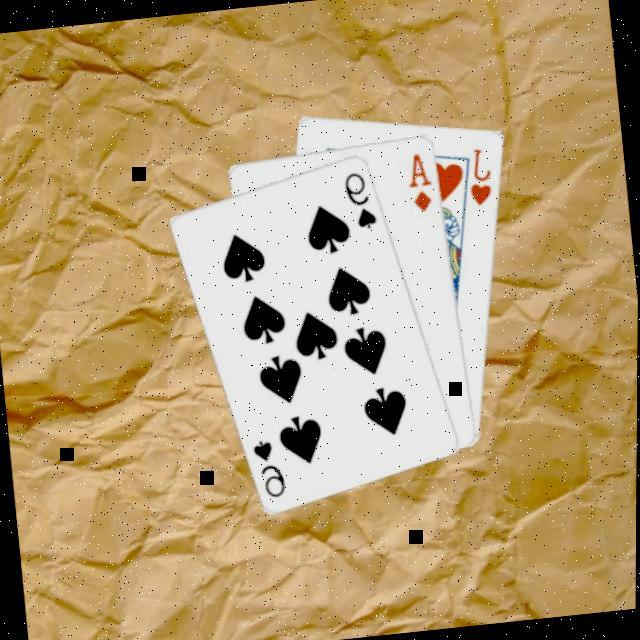9S: (338, 167, 379, 234), (248, 435, 288, 502)
AD: (400, 149, 436, 216)
JH: (461, 144, 496, 210)
